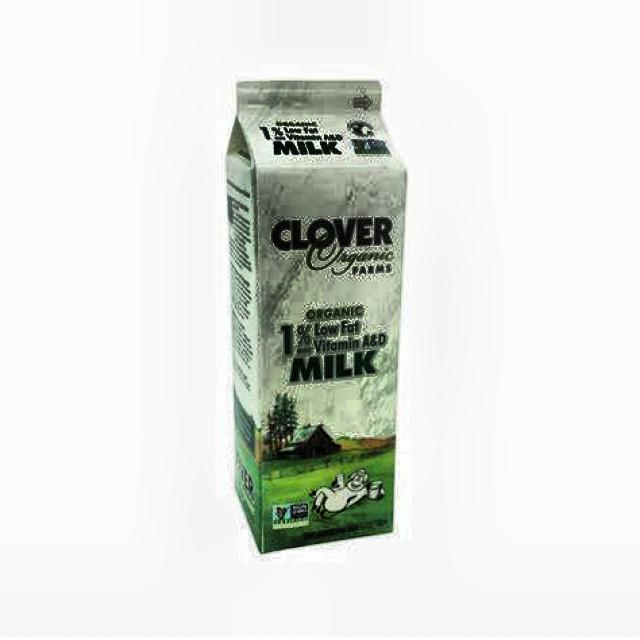cardboard: (224, 78, 407, 554)
